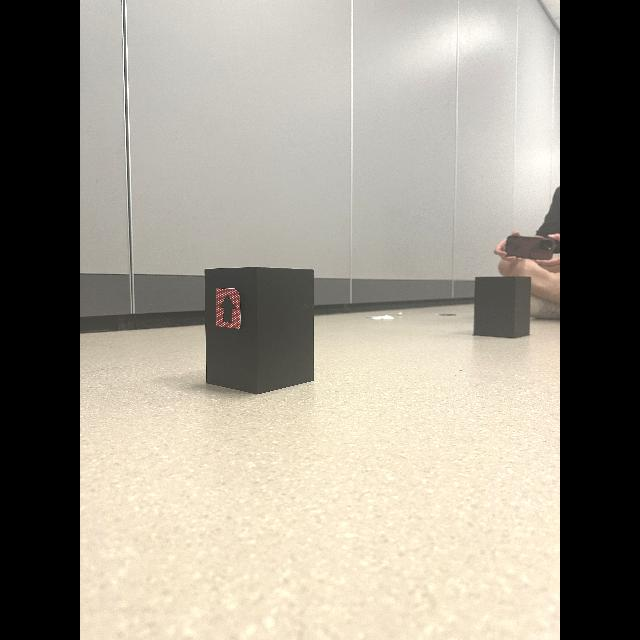UP: (219, 295, 237, 323)
